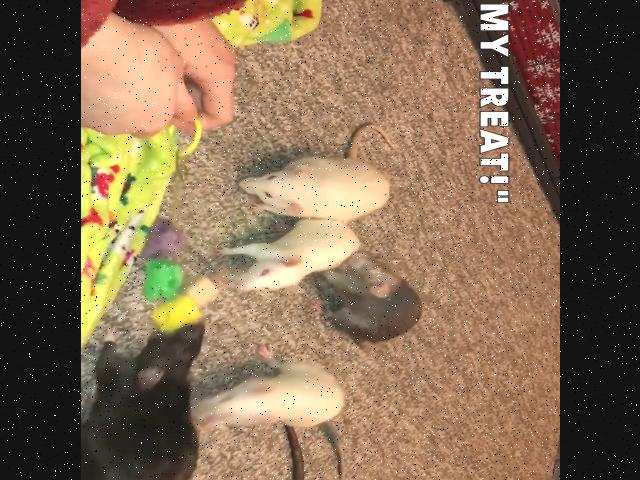Tikus: (80, 323, 204, 480), (199, 360, 349, 438), (216, 218, 360, 291), (242, 153, 394, 218), (325, 252, 419, 344)
